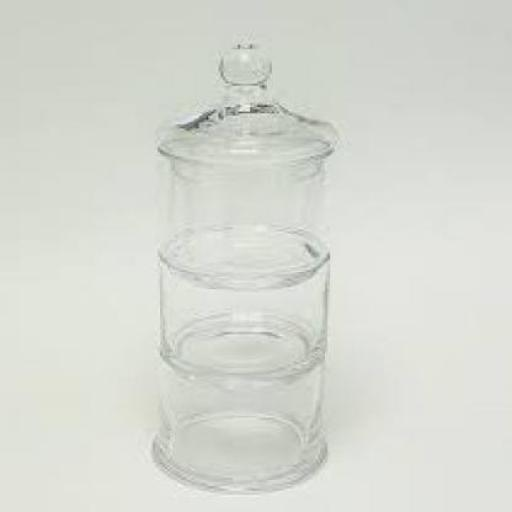glass: (152, 40, 340, 493)
